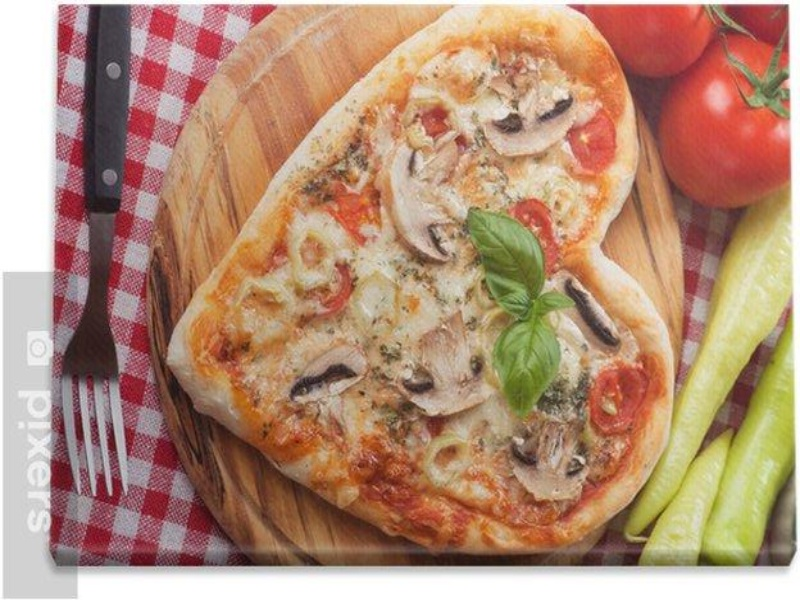champignon: (392, 304, 503, 427), (373, 134, 470, 271), (495, 412, 590, 509), (483, 74, 583, 159), (548, 268, 632, 360), (280, 340, 376, 406)
